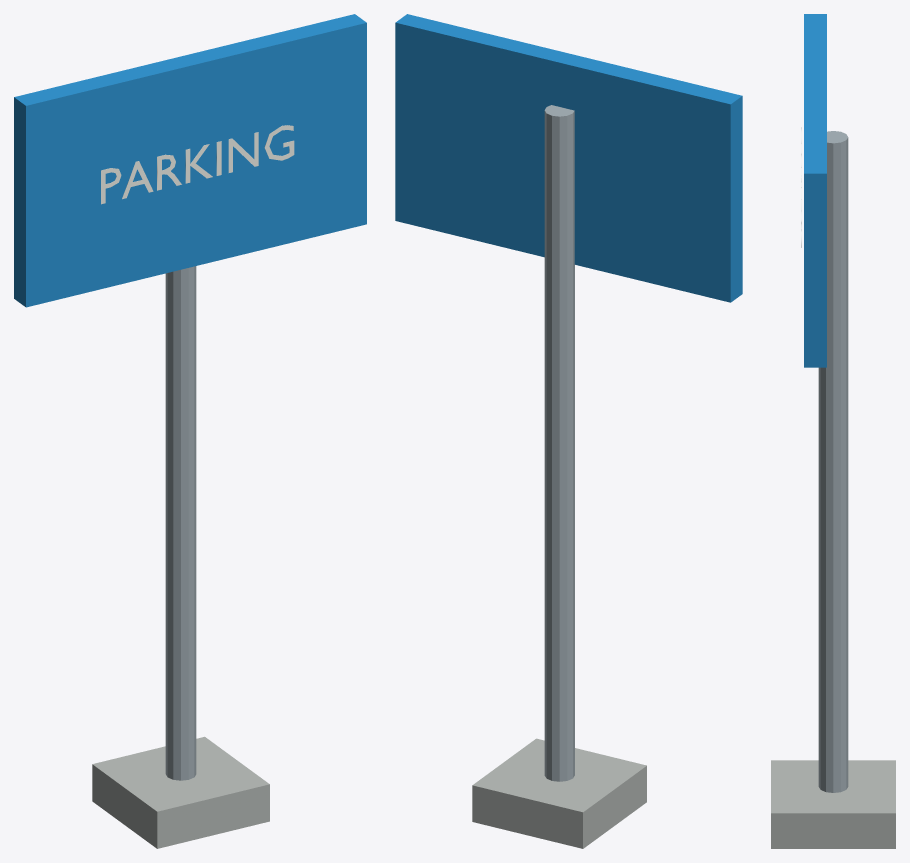
The model's file is TR_Sign_Parking.glb.
3 views of the same model, side by side, from view 1: azimuth 30°, elevation 25°; view 2: azimuth 150°, elevation 25°; view 3: azimuth 270°, elevation 25° (orthographic). The views are drawn at different scales.
Parts seen in each view (by area): view 1: TR_Sign_Parking; view 2: TR_Sign_Parking; view 3: TR_Sign_Parking.
Boxes of the visible parts, x1,y1,x2,y2 form: TR_Sign_Parking: [14, 14, 366, 848]; TR_Sign_Parking: [395, 14, 742, 848]; TR_Sign_Parking: [771, 14, 895, 848].
Bounding box in the file's own units: 1.15 × 2.44 × 0.38.
